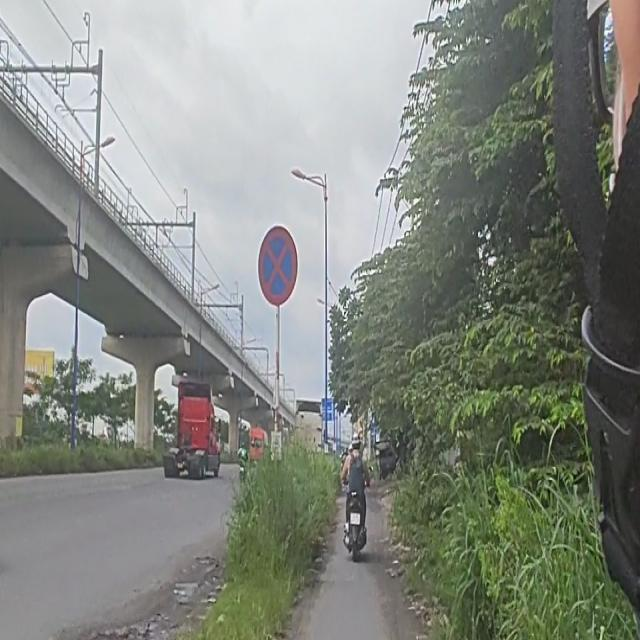Bien bao cam dung xe va do xe: (255, 220, 301, 310)
